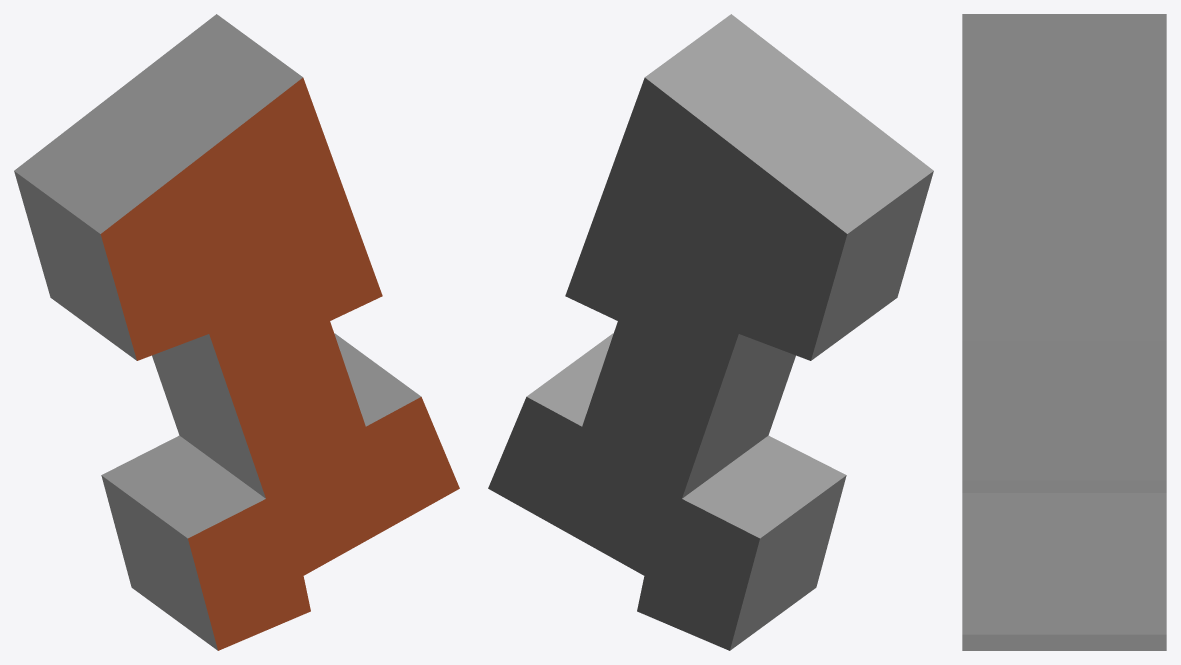
Rendered from construction_6442_assumed_A_Casa_h6m.obj.
3 views of the same model, side by side, from view 1: azimuth 30°, elevation 25°; view 2: azimuth 150°, elevation 25°; view 3: azimuth 270°, elevation 25° (orthographic). The views are drawn at different scales.
Parts seen in each view (by area): view 1: construction_6442_assumed_A_Casa; view 2: construction_6442_assumed_A_Casa; view 3: construction_6442_assumed_A_Casa.
Part boxes in pixels (x1,y1,x2,y2): construction_6442_assumed_A_Casa: [14, 14, 459, 650]; construction_6442_assumed_A_Casa: [488, 14, 933, 650]; construction_6442_assumed_A_Casa: [962, 14, 1166, 650].
Size of the model in its own units: 14.38 by 21.14 by 6.
